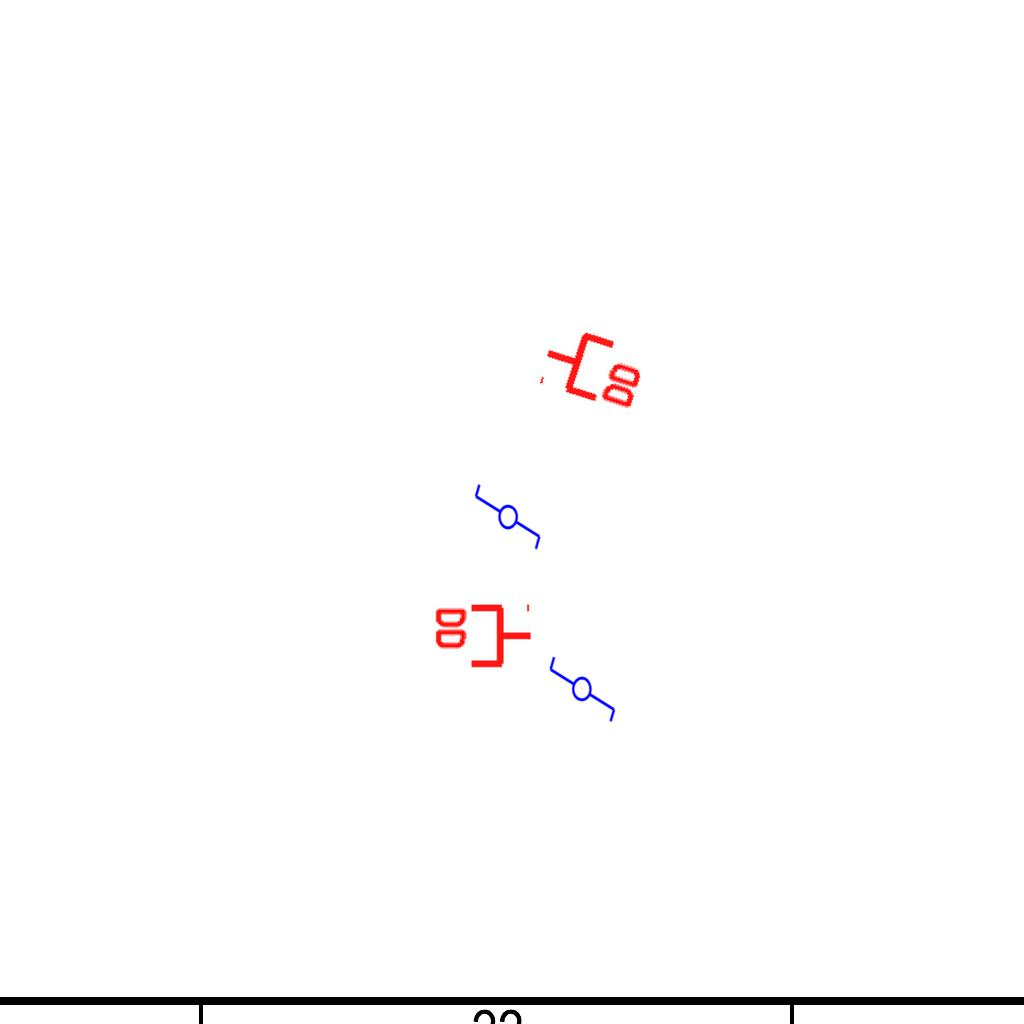Datenanschluss_zweifach: (534, 317, 655, 416), (431, 603, 534, 672)
Wechselschalter: (471, 482, 543, 560), (547, 646, 619, 724)
